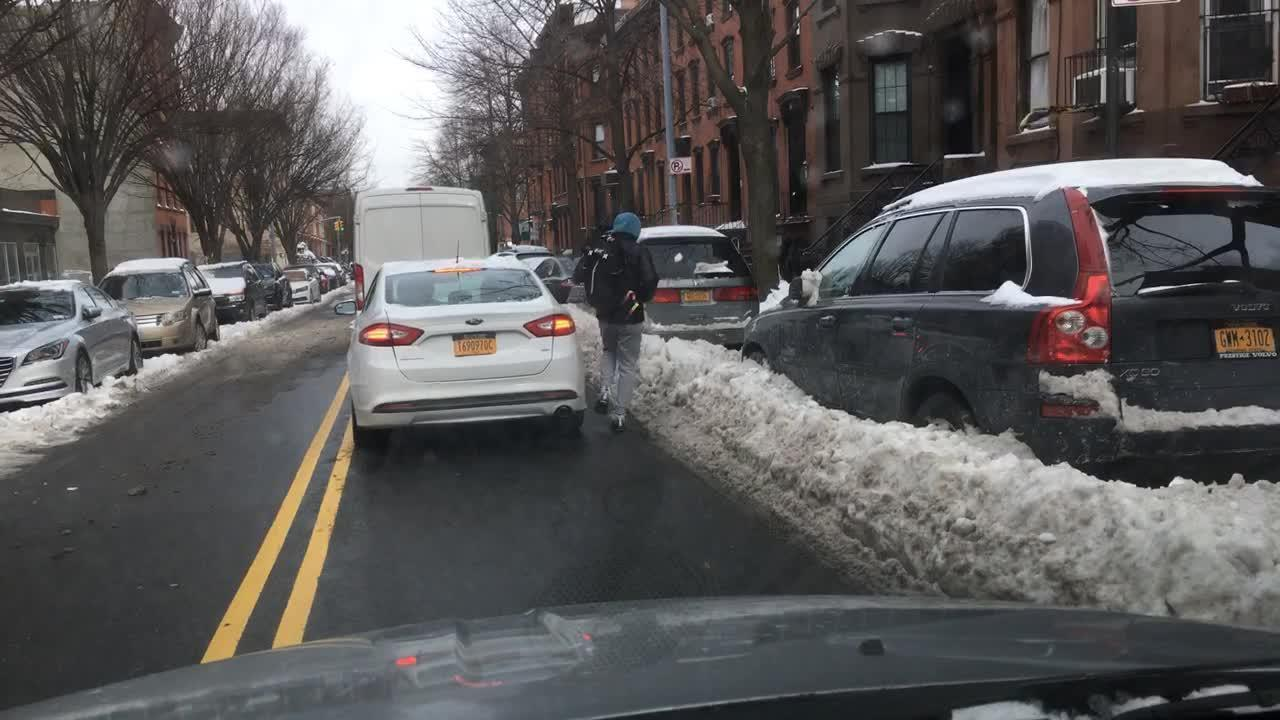volvo: (1227, 301, 1276, 314)
